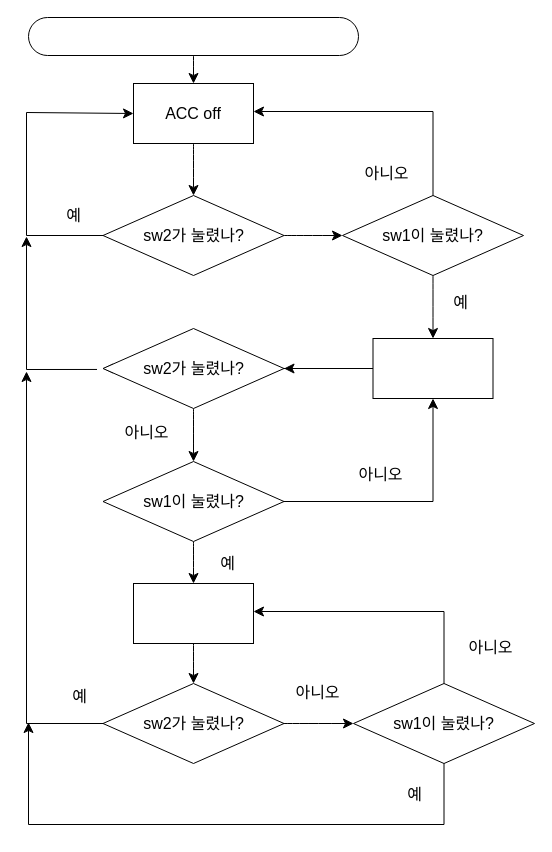
Image size: 552x852. Some labels were removed from this diagram. The centre of each missing label's shape, as x and y in pixels:
ACC on: pixel 193 613
ACC standby: pixel 432 368
시작: pixel 193 36
